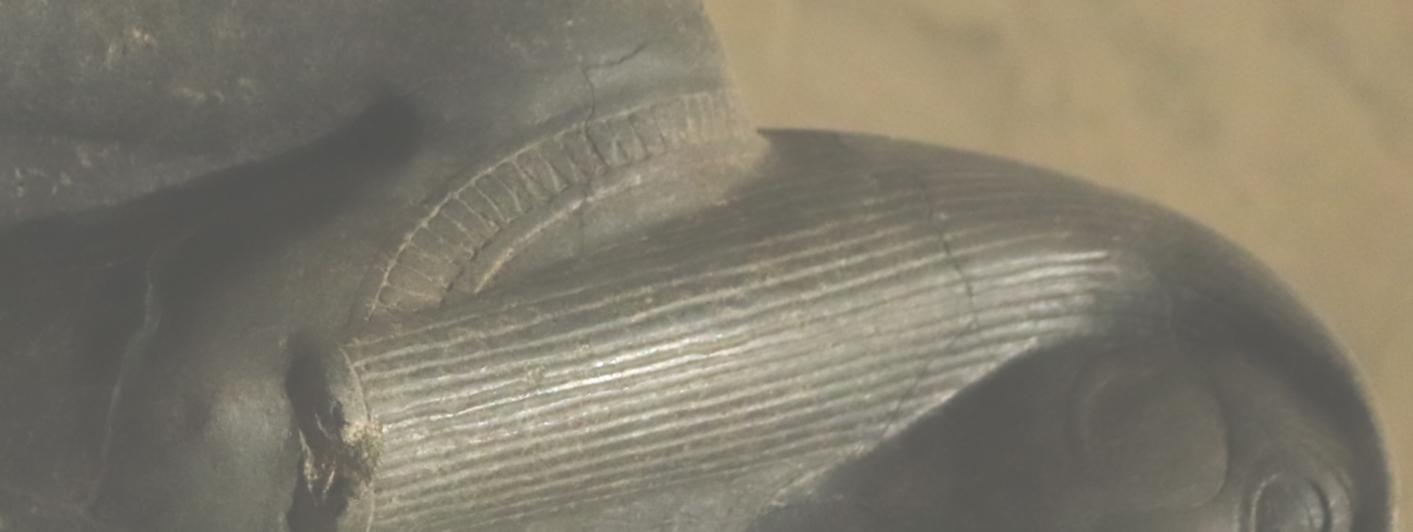Ra_Horakhty: (0, 0, 689, 532)
